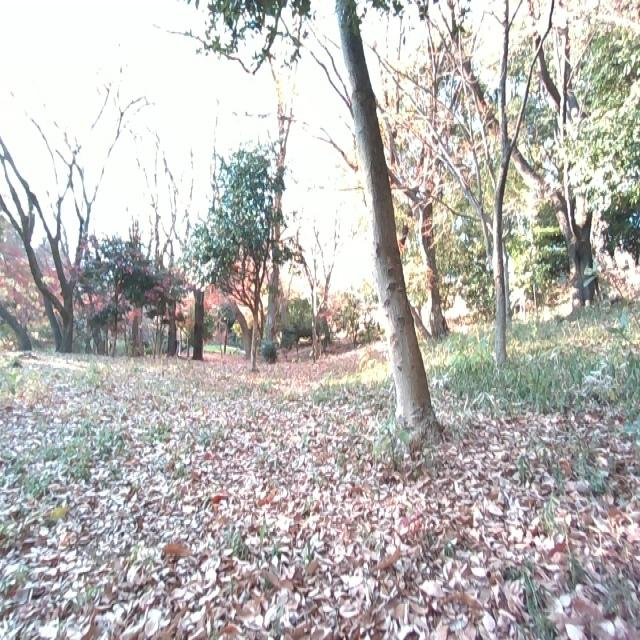tree: (330, 0, 451, 440), (414, 0, 560, 360), (494, 0, 625, 312), (0, 101, 132, 355), (247, 7, 305, 370), (189, 198, 214, 369)
